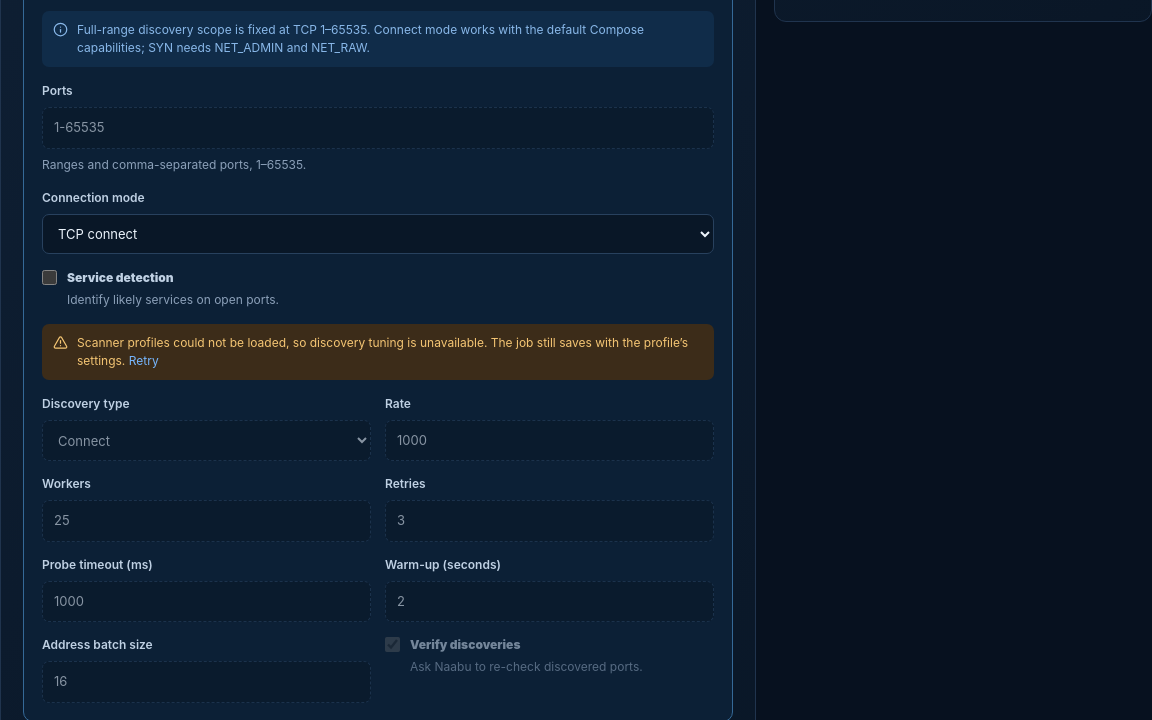
Test case: job editor workflow coverage › keeps discovery tuning disabled and offers a retry when the scanner profiles fail to load
(page scrolled)
Expected: the text "Scanner profiles could not be loaded" is shown, [77,335,688,368]
Expected: the number field labelled "Rate" is disabled, [385,420,714,461]
Click the button "Retry": (144, 361) [129,352,159,370]
(page scrolled)
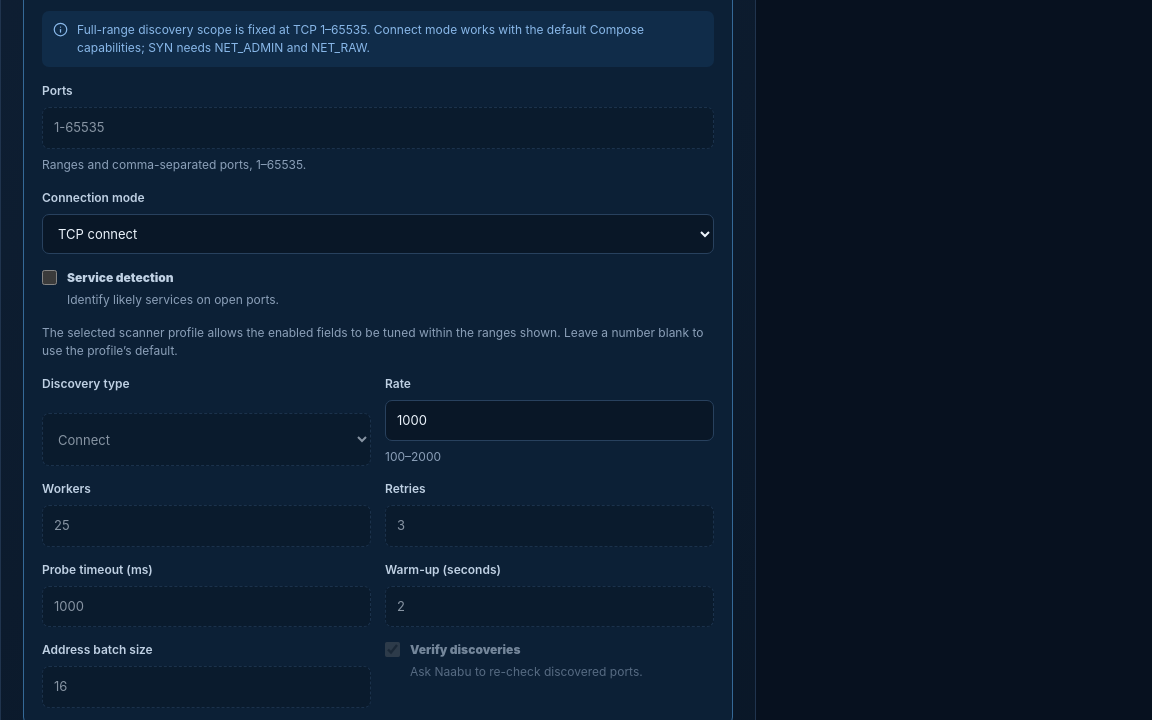
Expected: the number field labelled "Rate 100–2000" is enabled, [385,400,714,441]
